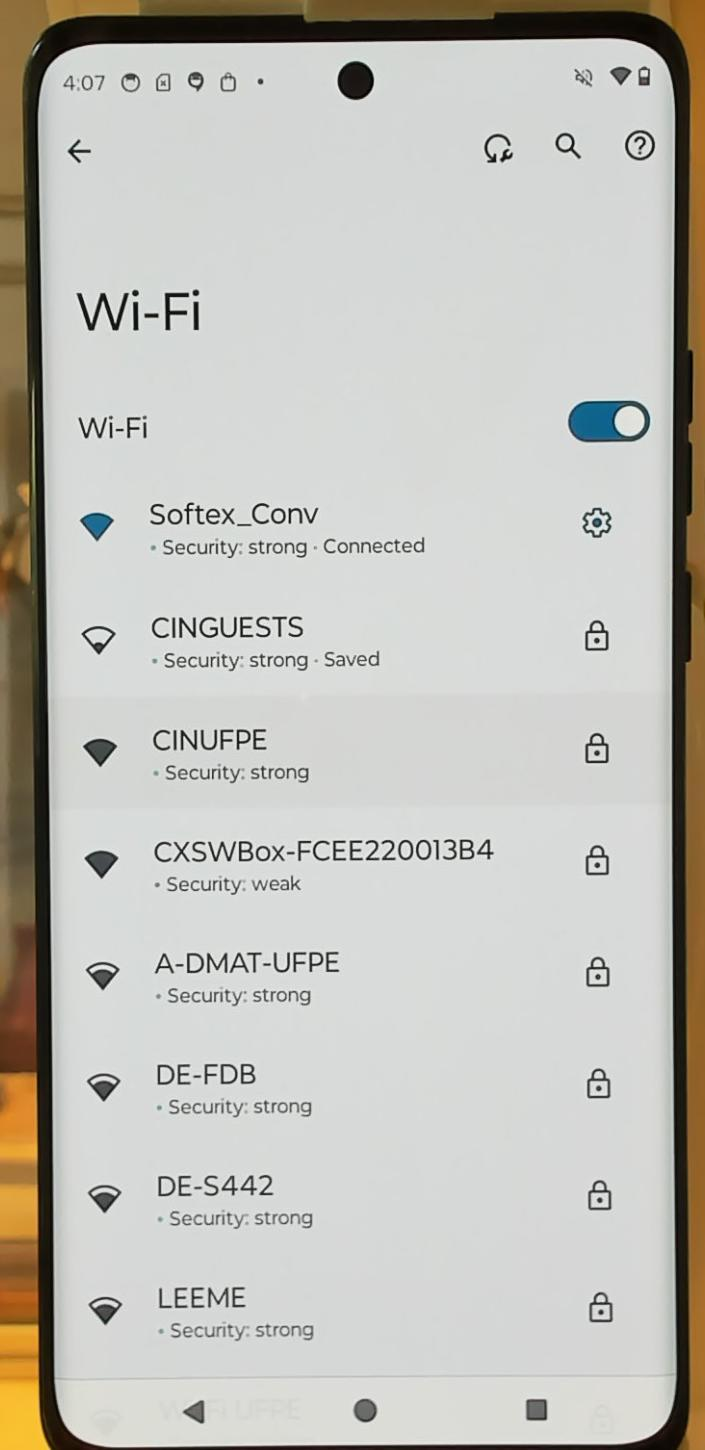Checkbox: (555, 385, 668, 459)
